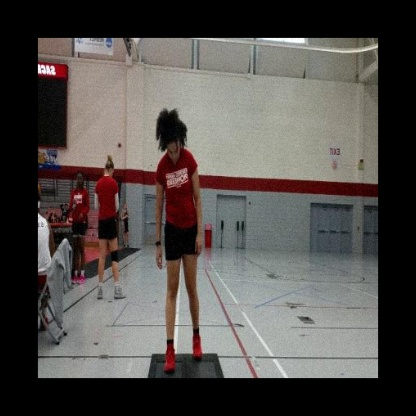lateral_flexion_left: (155, 106, 205, 377)
stance_width_normal: (154, 147, 205, 378)
